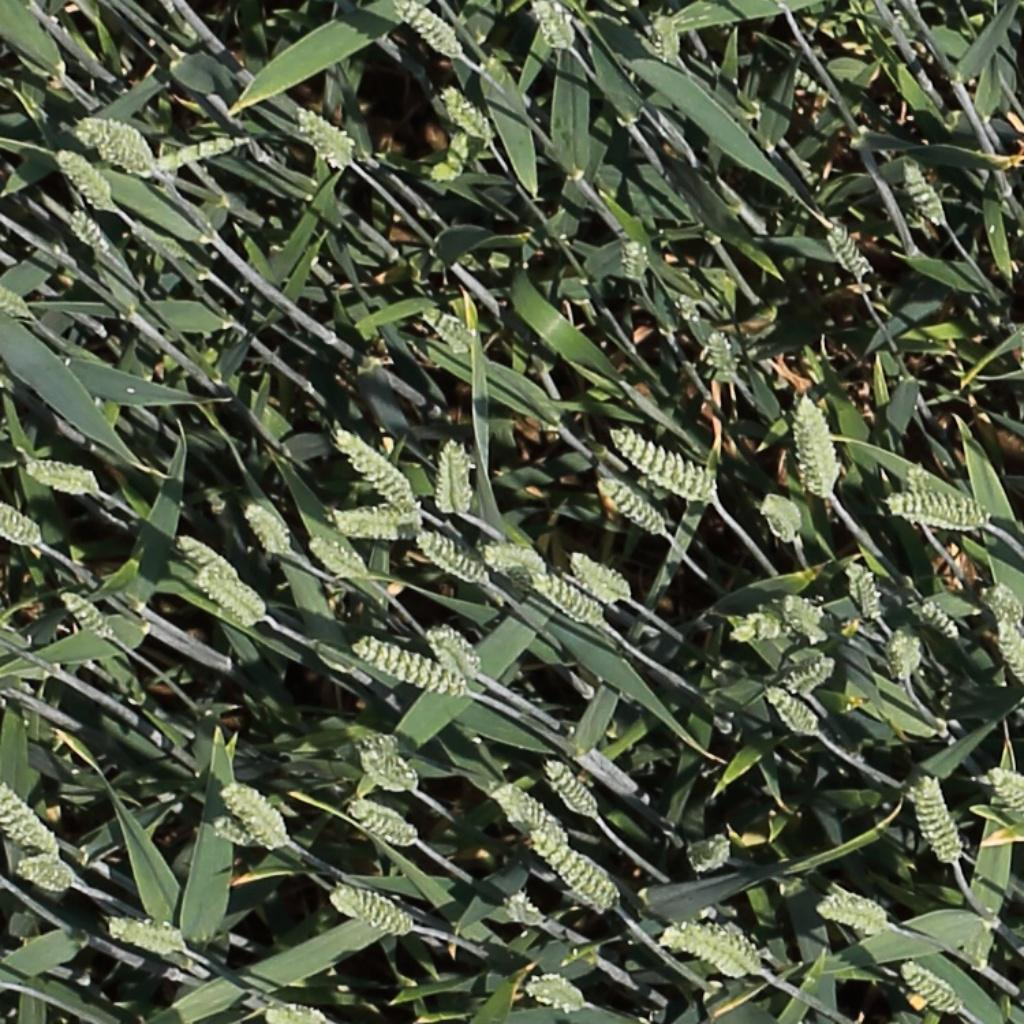0-0: (335, 424, 419, 517), (613, 428, 718, 501), (527, 832, 618, 913), (356, 638, 462, 699), (664, 924, 761, 977), (492, 785, 570, 849), (0, 778, 57, 858), (898, 151, 953, 229), (53, 143, 117, 210), (918, 774, 962, 871), (330, 887, 416, 936), (542, 756, 603, 824), (221, 785, 289, 846), (419, 531, 492, 587), (394, 0, 462, 60), (598, 477, 667, 536), (798, 394, 835, 501), (533, 573, 606, 626), (296, 103, 357, 166), (439, 79, 498, 144), (814, 894, 898, 938), (195, 573, 267, 623), (824, 217, 876, 286), (151, 133, 238, 174), (902, 959, 965, 1013), (569, 551, 634, 603), (57, 588, 117, 644), (240, 498, 293, 561), (765, 684, 823, 740), (348, 802, 420, 847), (174, 535, 240, 584), (84, 125, 154, 169), (427, 625, 481, 682), (887, 498, 989, 528), (520, 969, 588, 1013), (307, 535, 372, 581), (782, 592, 834, 647), (77, 116, 151, 154), (357, 748, 417, 794), (64, 202, 113, 258), (849, 557, 887, 629), (105, 918, 187, 951), (432, 124, 475, 185), (423, 304, 477, 352), (532, 0, 578, 55), (992, 617, 1024, 694), (704, 322, 744, 382), (23, 462, 99, 492), (916, 598, 965, 644), (346, 724, 401, 764), (981, 581, 1024, 632), (0, 496, 43, 546), (652, 5, 685, 69), (441, 434, 466, 518), (481, 547, 550, 577), (983, 767, 1024, 817), (786, 659, 838, 697), (16, 861, 75, 892), (761, 494, 806, 533), (891, 625, 918, 689), (265, 1001, 339, 1024), (334, 514, 419, 533), (688, 839, 734, 873), (622, 230, 648, 289), (212, 819, 260, 850), (730, 617, 786, 641), (0, 282, 35, 319)
